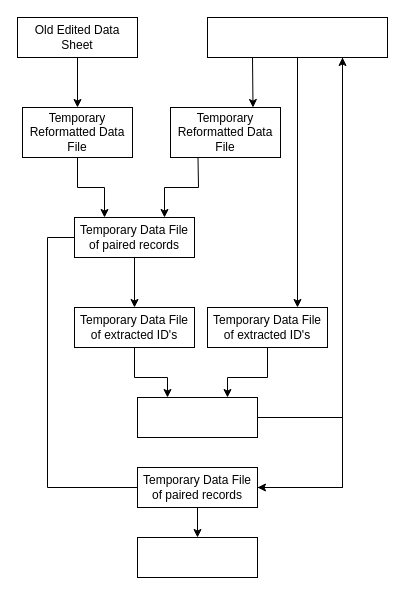
Image size: 405x595. Some labels were removed from this diagram. The box of each missing label's shape, as (x1, y1, x2, y2) in pixels:
Completed Headed Data Sheet: (136, 536, 258, 578)
Newly Downloaded Data Sheet: (206, 16, 388, 58)
Temporary in-memory list of ID differences: (136, 396, 258, 438)
